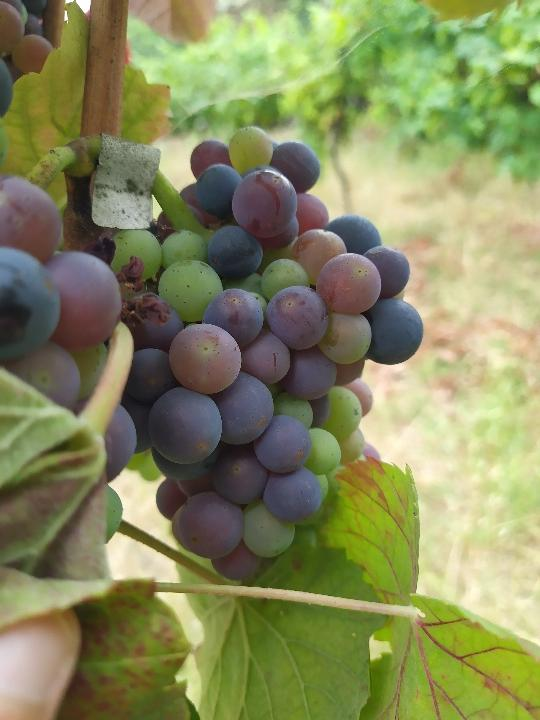grape: (125, 122, 428, 584)
